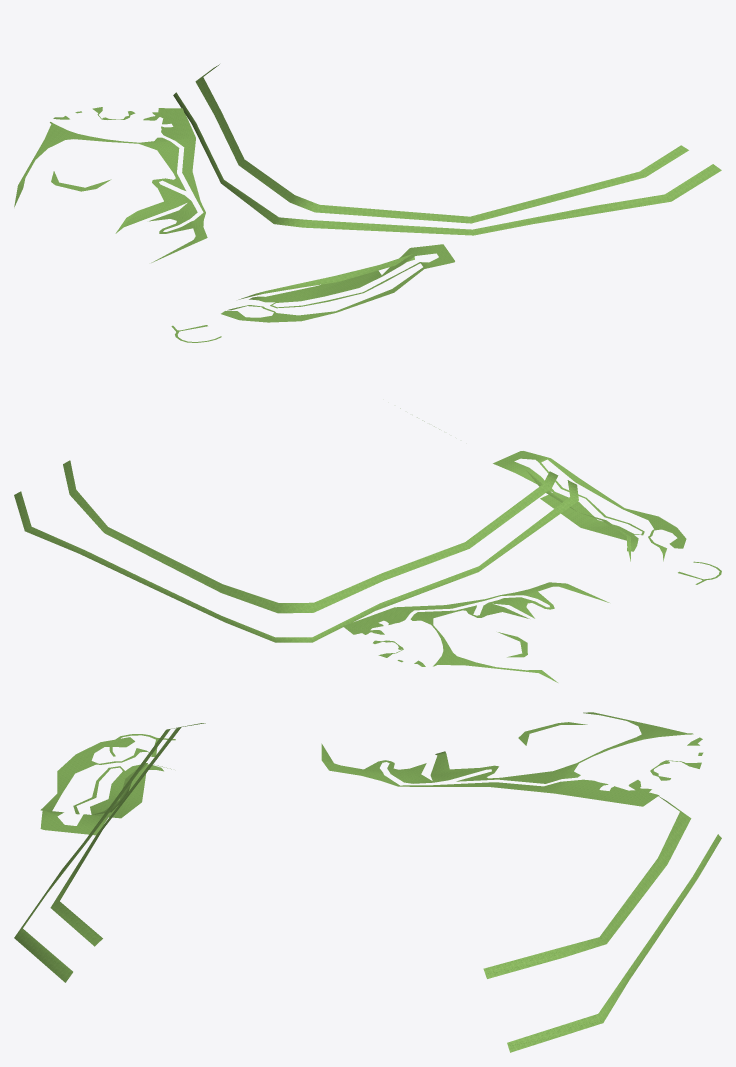
File: kd_stage_1364a3_7_5.glb
3 views of the same model, one above another, from view 1: azimuth 30°, elevation 25°; view 2: azimuth 150°, elevation 25°; view 3: azimuth 270°, elevation 25° (orthographic). The views are drawn at different scales.
Parts seen in each view (by area): view 1: kd_stage_1364a3_7_5; view 2: kd_stage_1364a3_7_5; view 3: kd_stage_1364a3_7_5.
Part boxes in pixels (x1,y1,x2,y2): kd_stage_1364a3_7_5: (14, 64, 721, 342); kd_stage_1364a3_7_5: (14, 408, 721, 682); kd_stage_1364a3_7_5: (14, 712, 721, 1052).
Size of the model in its own units: 401 by 55.35 by 318.
Materials: 1 (1 with a texture image).
